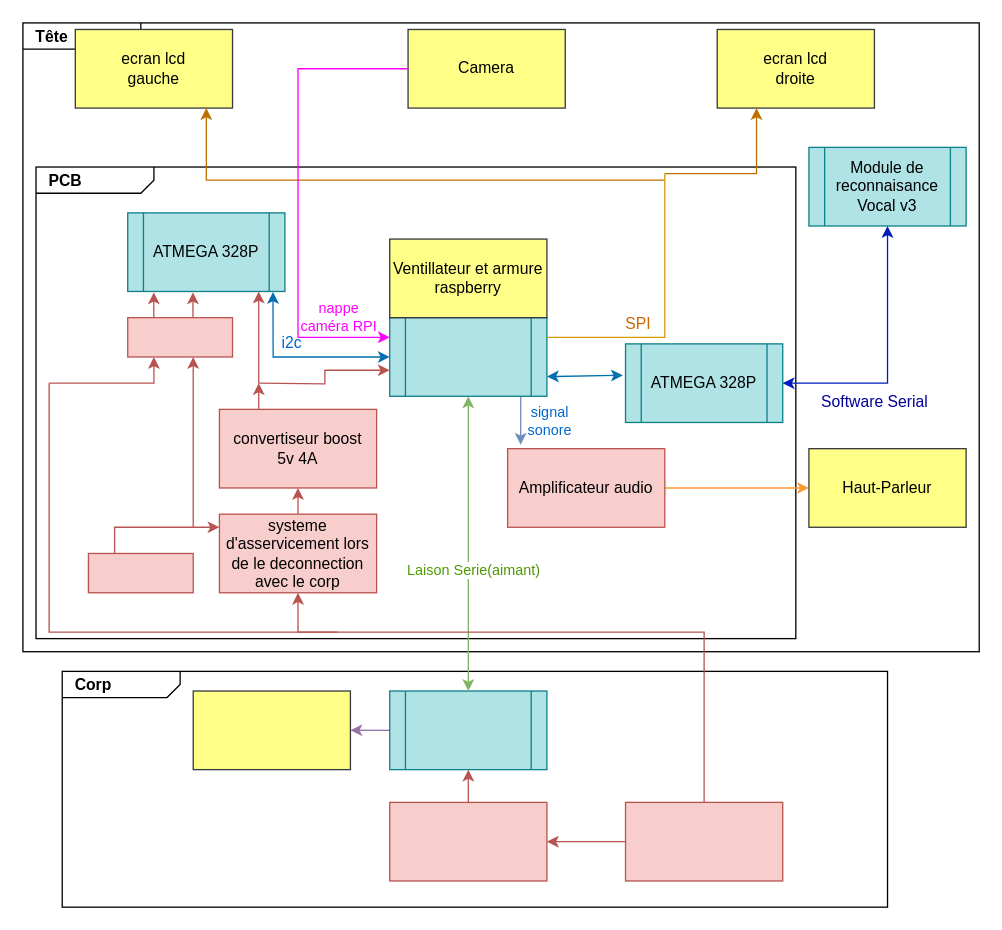
Image size: 1002x930. Some labels were removed from this diagram. The shapes that lost their labels are listed below. From the top down, each one's centre as x and y in pixels, then its label:
(179,336): pont diviseur de tention
(467,356): Raspberry
(140,572): batterie 1c 1500mah
(271,730): systeme de deplacement
(467,730): Arduino
(467,841): convertiseur boost 5v 1A(avec recharge)
(703,841): Batterie 1c 13000mah
